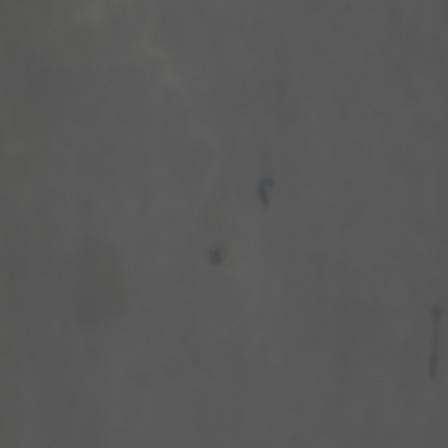Jentik-Nyamuk: (250, 164, 280, 214)
